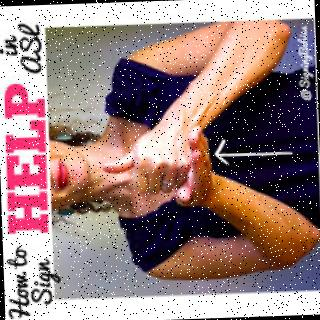Help: (101, 110, 210, 217)
